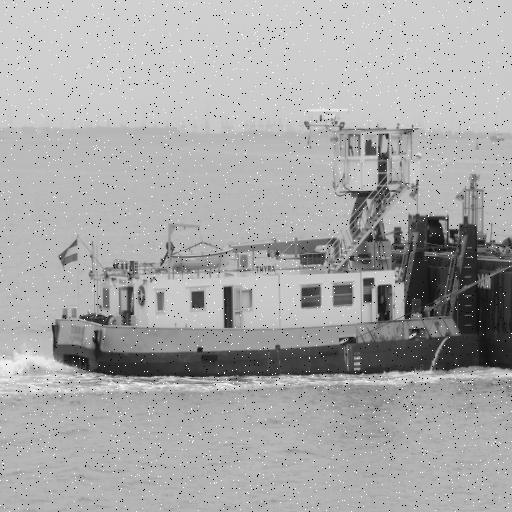tugboat: (41, 104, 473, 384)
